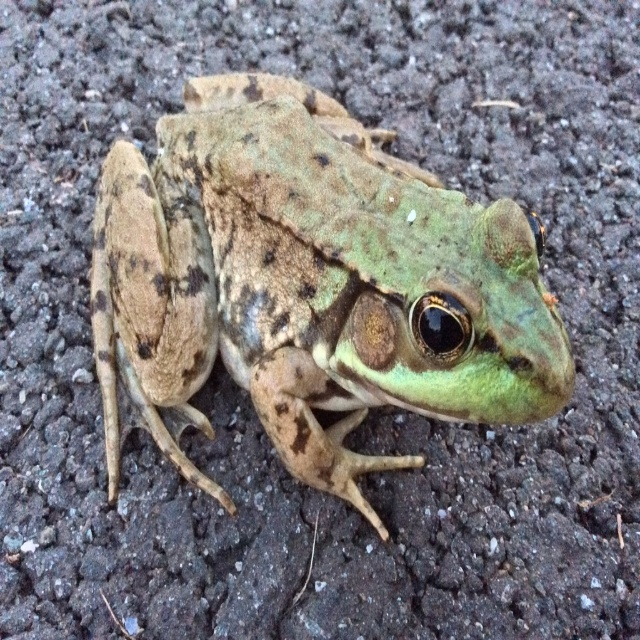Frog: (92, 74, 576, 540)
